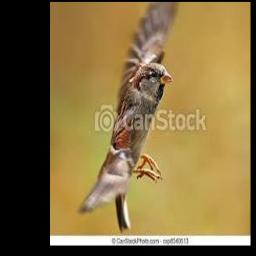Sparrow: (78, 2, 178, 232)
